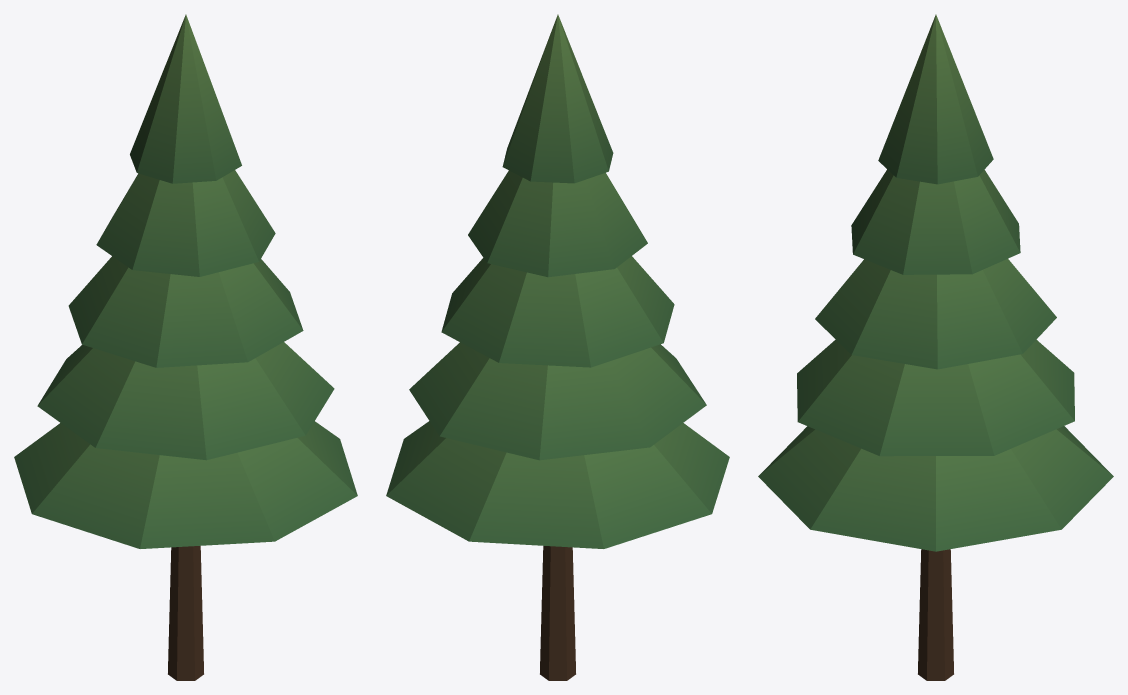
Rendered from valley-pine_far.glb.
3 renders of one model, left to right at view 1: azimuth 30°, elevation 25°; view 2: azimuth 150°, elevation 25°; view 3: azimuth 270°, elevation 25°, orthographic.
Visible parts, largest first — view 1: pine_far; view 2: pine_far; view 3: pine_far.
Boxes of the visible parts, x1,y1,x2,y2 form: pine_far: [14, 14, 357, 680]; pine_far: [386, 14, 729, 680]; pine_far: [758, 14, 1113, 680].
Size of the model in its own units: 12.72 by 26.04 by 12.72.
